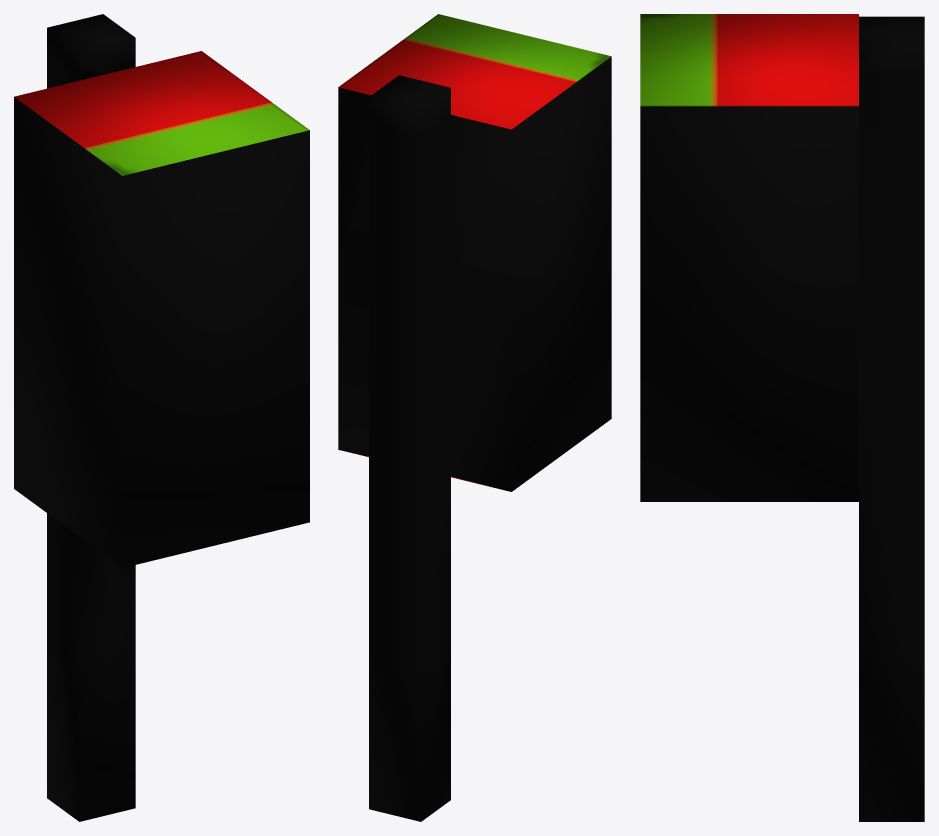
3 renders of one model, left to right at view 1: azimuth 30°, elevation 25°; view 2: azimuth 150°, elevation 25°; view 3: azimuth 270°, elevation 25°, orthographic. The views are drawn at different scales.
Visible parts, largest first — view 1: T1L1M004_8; view 2: T1L1M004_8; view 3: T1L1M004_8.
Boxes of the visible parts, x1,y1,x2,y2 form: T1L1M004_8: (14, 14, 309, 821); T1L1M004_8: (338, 14, 611, 821); T1L1M004_8: (640, 14, 924, 821).
Size of the model in its own units: 0.4004 by 1.57 by 0.5205.
